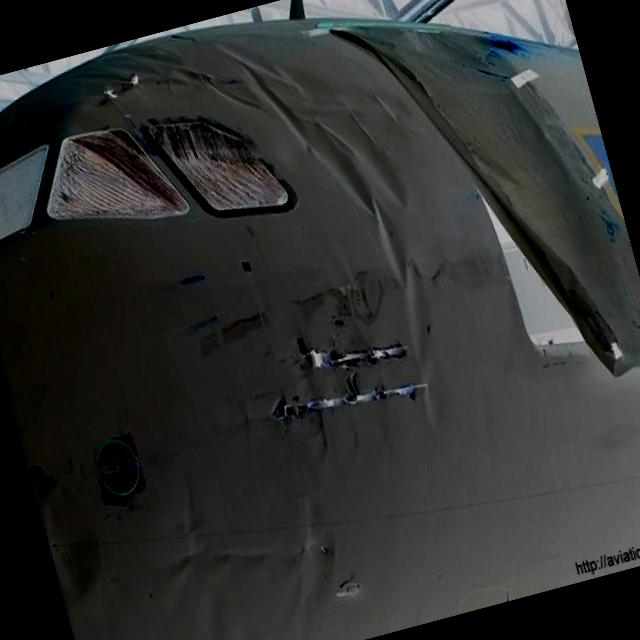crack: (237, 299, 445, 445)
